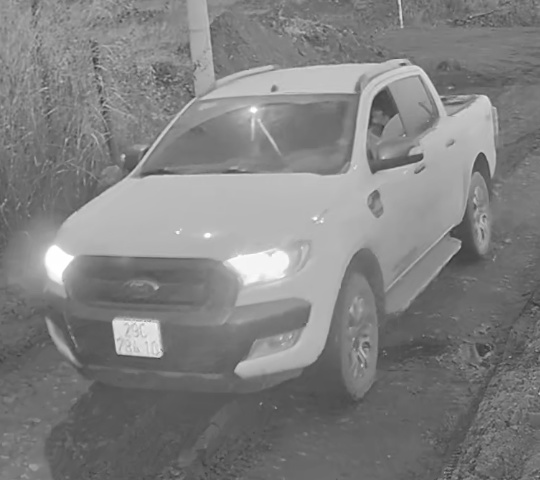vehicle plate: (110, 313, 166, 361)
